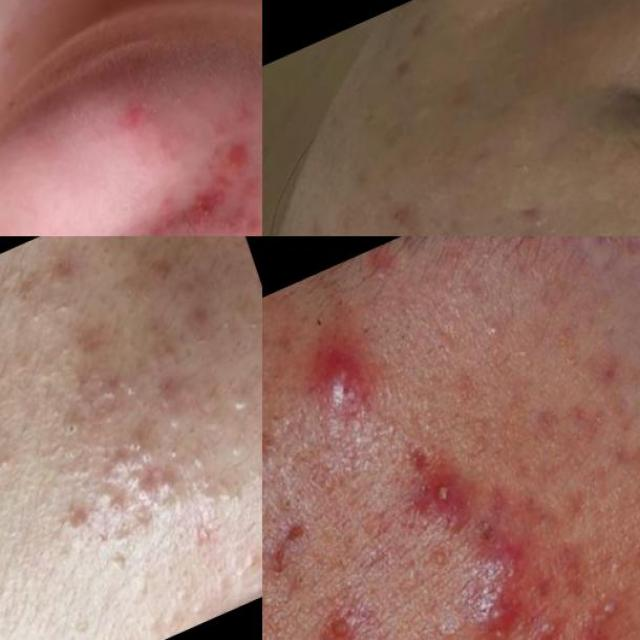8: (294, 326, 383, 426), (461, 523, 525, 586), (211, 117, 262, 176), (138, 246, 180, 302), (60, 495, 98, 539), (183, 300, 224, 338), (48, 251, 78, 289)
9: (314, 588, 370, 640), (414, 465, 460, 514), (568, 630, 612, 640)
blackheads: (444, 573, 523, 640), (171, 162, 241, 236), (581, 580, 631, 634), (70, 321, 116, 365)
dark spot: (92, 422, 158, 484), (43, 404, 89, 454), (151, 384, 186, 438), (121, 464, 157, 510), (219, 381, 255, 423), (157, 434, 188, 470), (101, 546, 132, 582), (89, 371, 119, 406), (199, 410, 225, 440), (238, 542, 262, 574), (108, 493, 128, 518)
